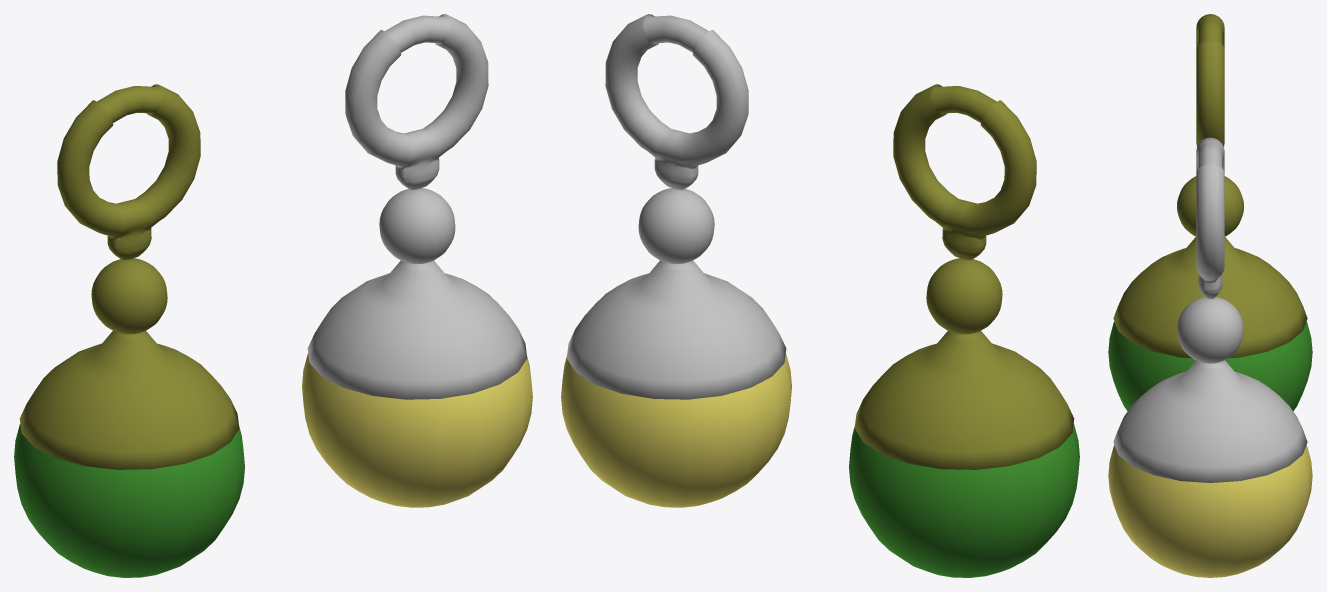
The model's file is potara_earrings_dragon_ball_63cc2a.glb.
The picture shows the model from 3 angles, left to right: view 1: azimuth 30°, elevation 25°; view 2: azimuth 150°, elevation 25°; view 3: azimuth 270°, elevation 25°; orthographic projection. The views are drawn at different scales.
Parts seen in each view (by area): view 1: pSphere3, pSphere5, pSphere6, pSphere1, pTorus1, pTorus2, pSphere2, pSphere4; view 2: pSphere3, pSphere5, pSphere6, pSphere1, pTorus1, pTorus2, pSphere2, pSphere4; view 3: pSphere5, pSphere6, pSphere3, pSphere1, pTorus2, pTorus1, pSphere4, pSphere2.
Part boxes in pixels (left/top/right/bottom): pSphere3: left=19, top=331, right=239, bottom=469; pSphere5: left=307, top=260, right=527, bottom=399; pSphere6: left=302, top=353, right=532, bottom=507; pSphere1: left=14, top=424, right=244, bottom=577; pTorus1: left=57, top=84, right=200, bottom=260; pTorus2: left=345, top=14, right=488, bottom=189; pSphere2: left=91, top=258, right=167, bottom=334; pSphere4: left=379, top=188, right=455, bottom=264; pSphere3: left=854, top=331, right=1074, bottom=469; pSphere5: left=566, top=260, right=786, bottom=399; pSphere6: left=561, top=353, right=791, bottom=507; pSphere1: left=849, top=424, right=1079, bottom=577; pTorus1: left=893, top=84, right=1036, bottom=260; pTorus2: left=605, top=14, right=748, bottom=189; pSphere2: left=926, top=258, right=1002, bottom=334; pSphere4: left=638, top=188, right=714, bottom=264; pSphere5: left=1113, top=360, right=1307, bottom=482; pSphere6: left=1108, top=445, right=1312, bottom=577; pSphere3: left=1113, top=237, right=1307, bottom=358; pSphere1: left=1108, top=321, right=1312, bottom=411; pTorus2: left=1196, top=137, right=1224, bottom=299; pTorus1: left=1196, top=14, right=1224, bottom=146; pSphere4: left=1177, top=297, right=1243, bottom=363; pSphere2: left=1177, top=176, right=1243, bottom=236.
Size of the model in its own units: 3.12 by 2.92 by 1.28.
